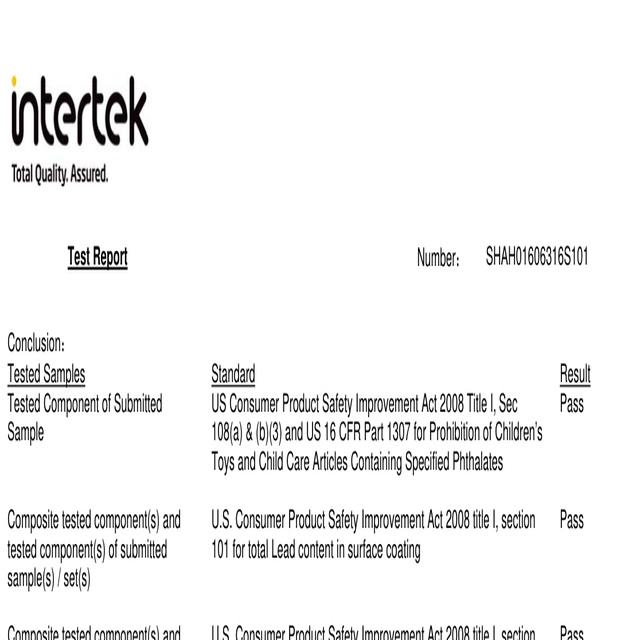intertek: (5, 73, 153, 151)
